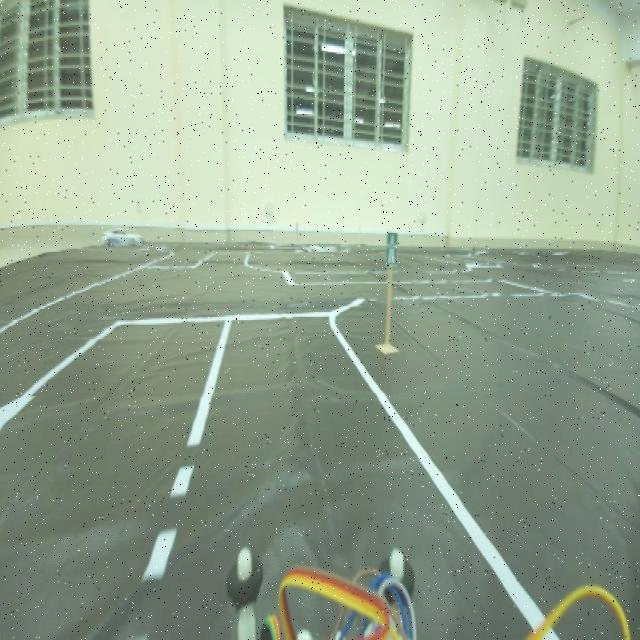highway_entry: (384, 215, 401, 268)
